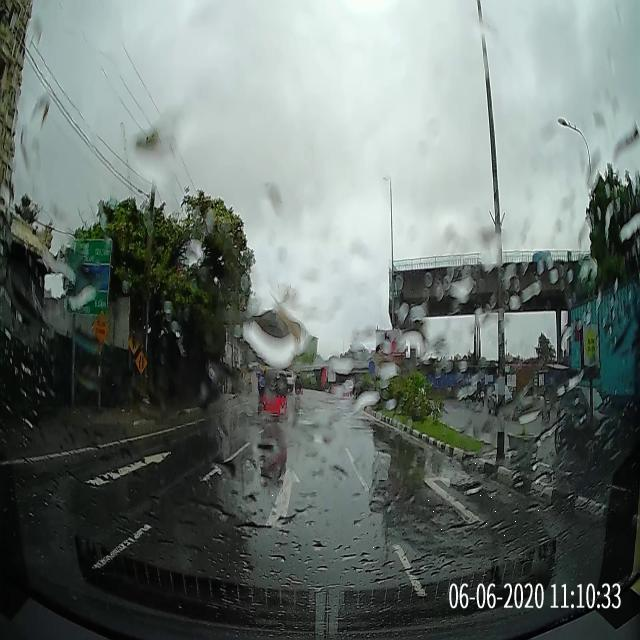forward: (160, 462, 394, 536)
right: (353, 461, 577, 548)
